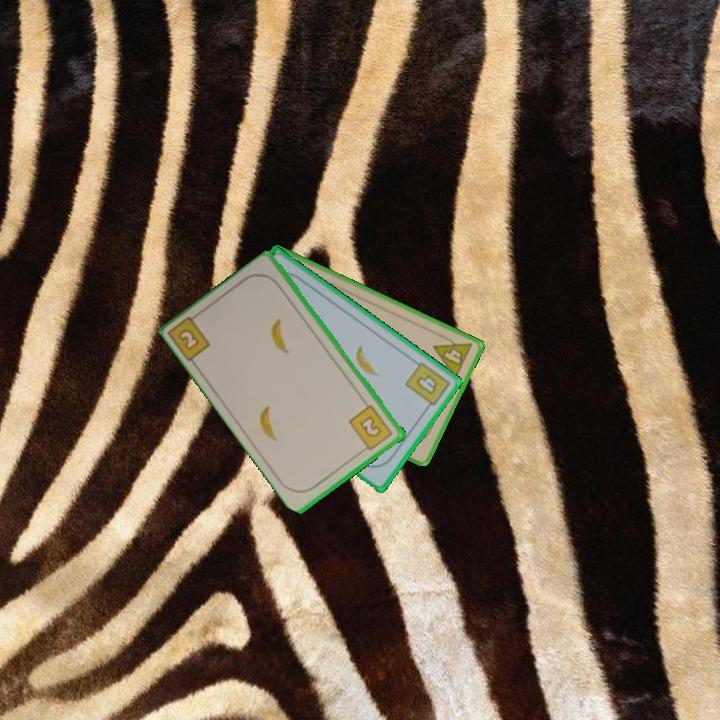2b: (345, 401, 396, 455), (167, 308, 214, 365)
4b: (401, 358, 453, 414)
4p: (430, 330, 475, 382)
